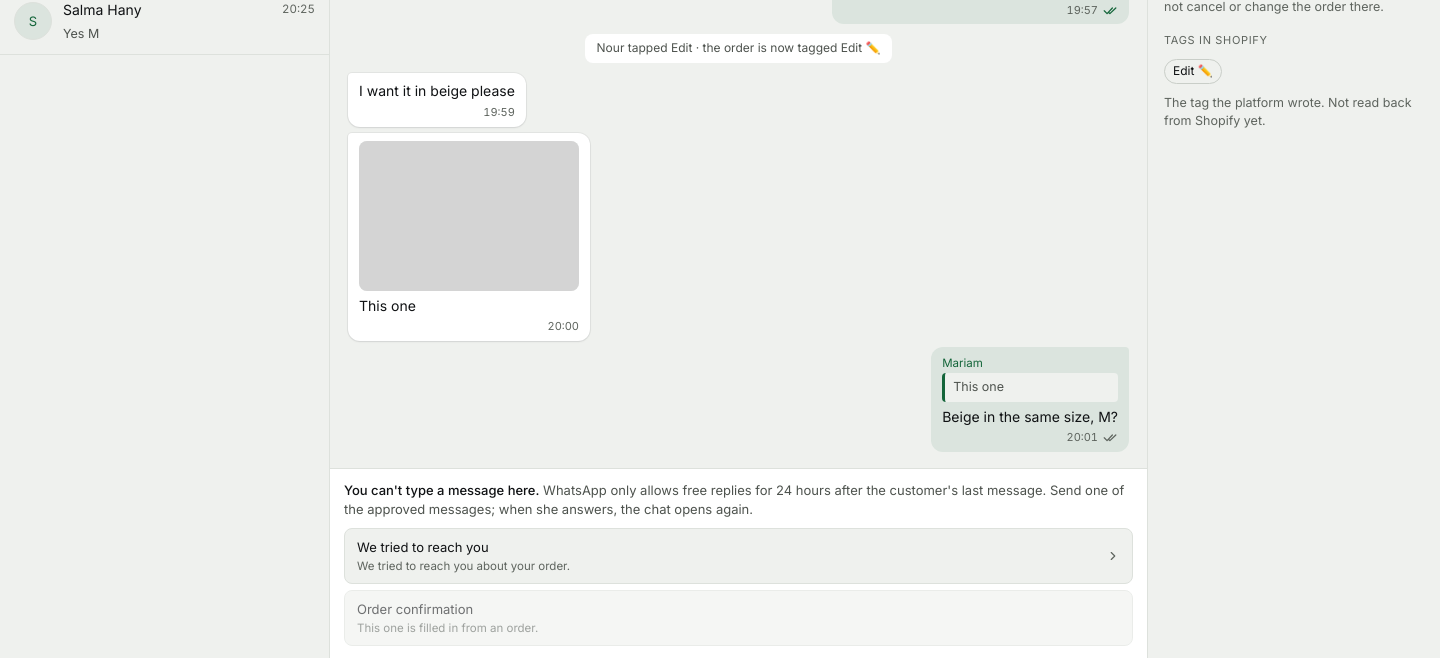
an open chat › offers the approved messages then, and sends one only after it is read and confirmed
This screenshot has width=1440, height=658.
(page scrolled)
Expected: the button "Order confirmation This one is filled in from an order." is disabled, [344, 590, 1133, 646]
Expected: the button "Order confirmation This one is filled in from an order." is shown, [344, 590, 1133, 646]
Click the button "We tried to reach you" at (423, 547), box [344, 528, 1133, 584]
(page scrolled)
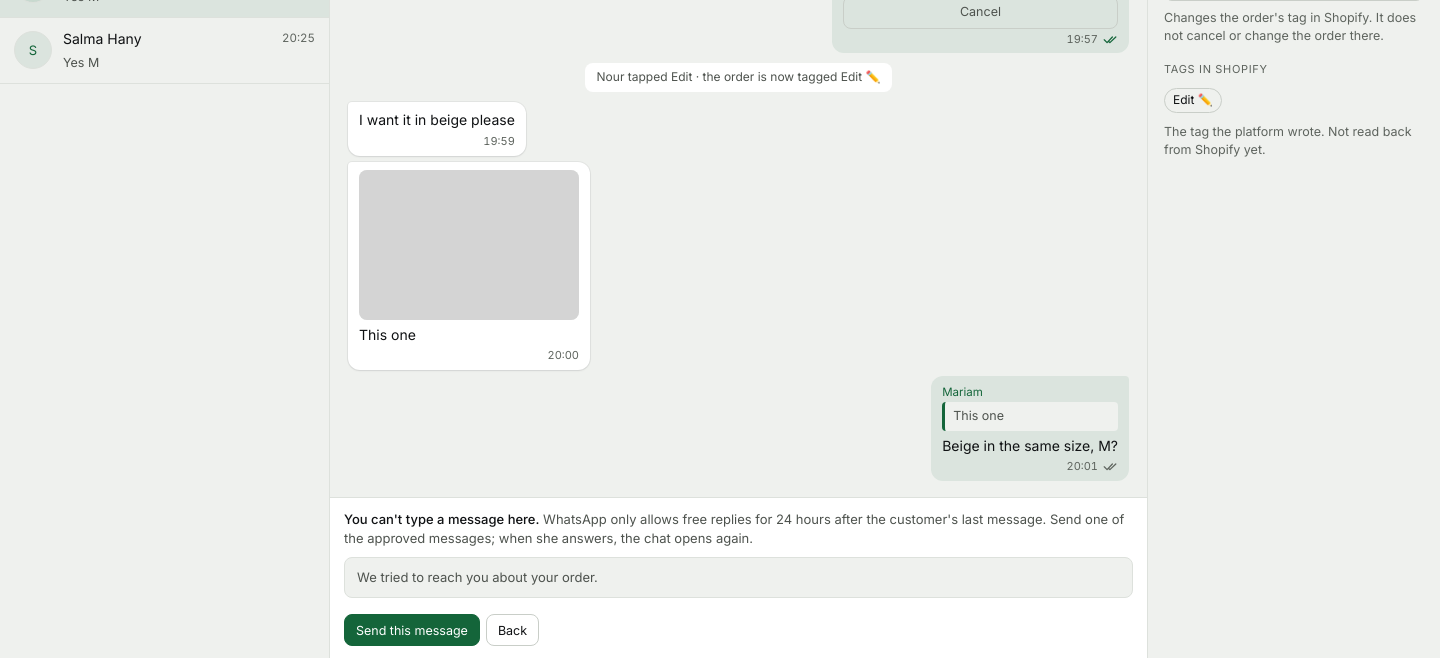
Click the button "Send this message" at (412, 630), box [344, 614, 480, 646]
(page scrolled)
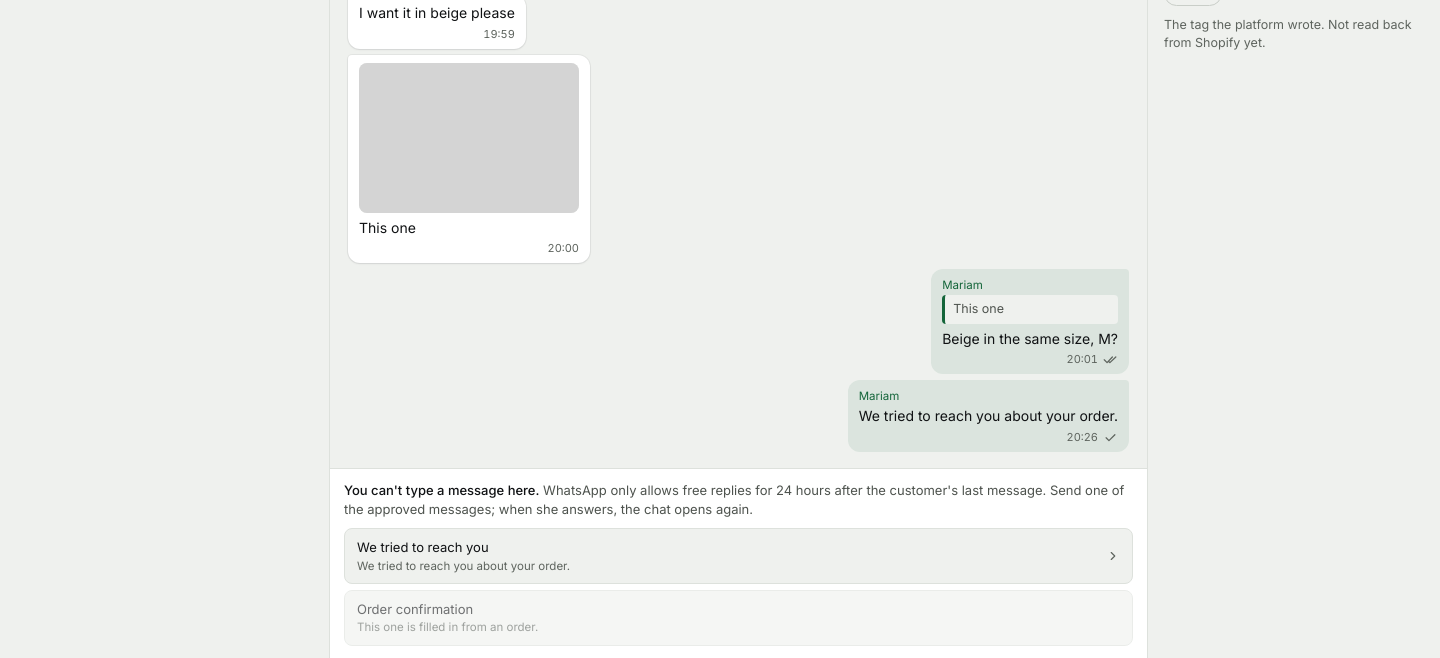
Expected: the button "We tried to reach you" is shown, [344, 528, 1133, 584]
